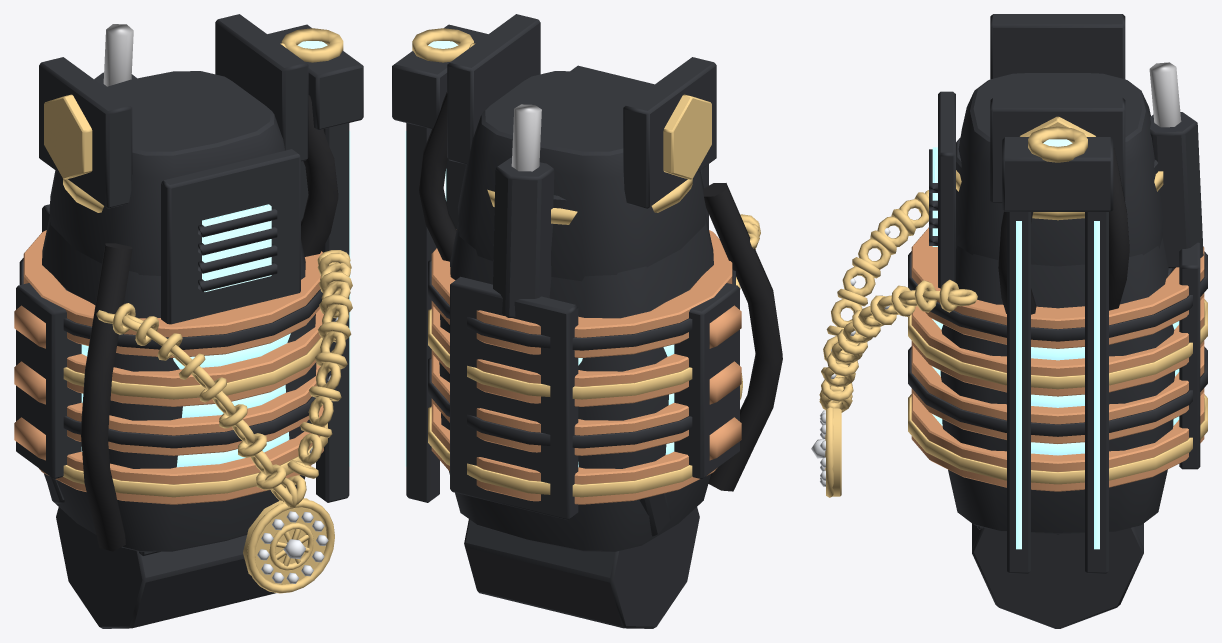
File: hardware.gltf
3 views of the same model, side by side, from view 1: azimuth 30°, elevation 25°; view 2: azimuth 150°, elevation 25°; view 3: azimuth 270°, elevation 25° (orthographic). The views are drawn at different scales.
Visible parts, largest first — view 1: arm_fore, arm_upper, pendant; view 2: arm_fore, arm_upper, arm_hand; view 3: arm_fore, arm_upper, pendant.
Boxes of the visible parts, left/top/right/bottom form: arm_fore: left=14, top=24, right=363, bottom=628; arm_upper: left=39, top=14, right=338, bottom=324; pendant: left=96, top=250, right=352, bottom=593; arm_fore: left=392, top=24, right=782, bottom=628; arm_upper: left=419, top=14, right=716, bottom=317; arm_hand: left=639, top=493, right=670, bottom=536; arm_fore: left=908, top=126, right=1207, bottom=628; arm_upper: left=929, top=14, right=1203, bottom=314; pendant: left=811, top=190, right=977, bottom=497.
Bounding box in the file's own units: 0.2344 × 0.3923 × 0.2645.
